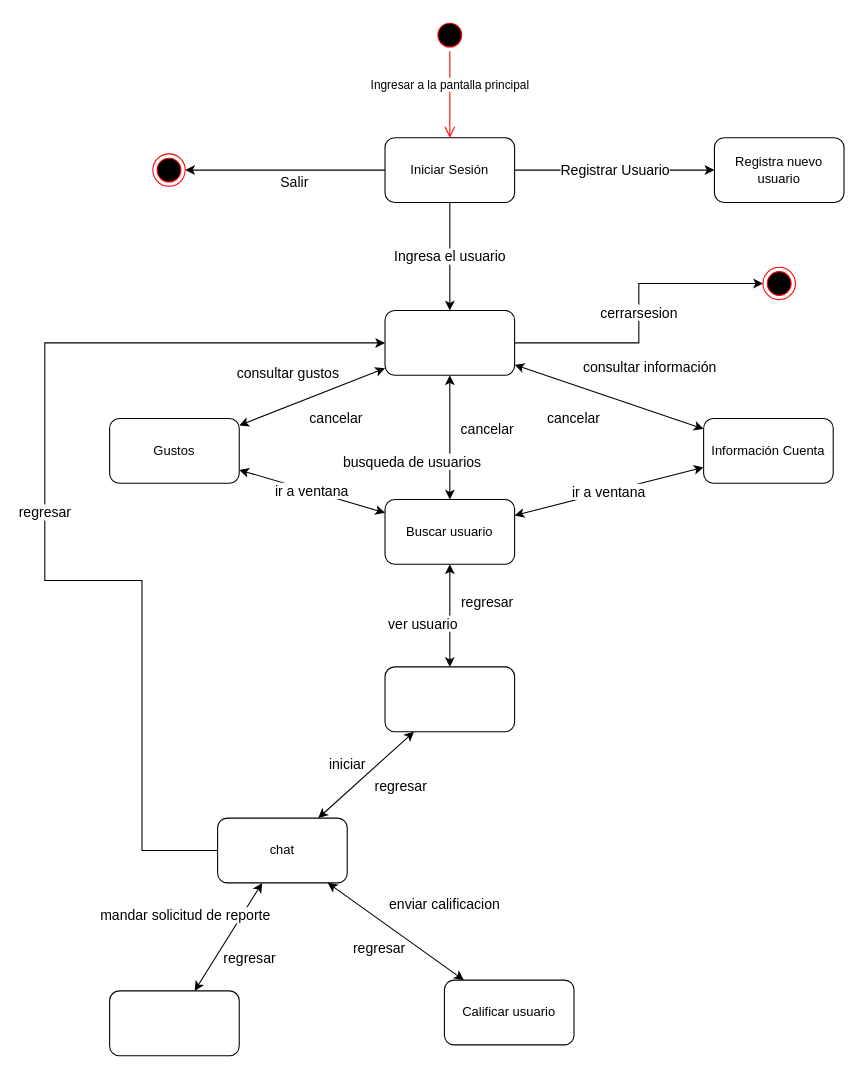
The diagram is 863 pixels wide and 1075 high, and some of its shapes have lost their labels. Here are the shapes that lost their labels. From the top down, the box of each, then its label:
(384, 309, 515, 375): Menú Principal
(384, 666, 515, 732): Consultar usuario
(109, 990, 239, 1056): Reporte usuario
